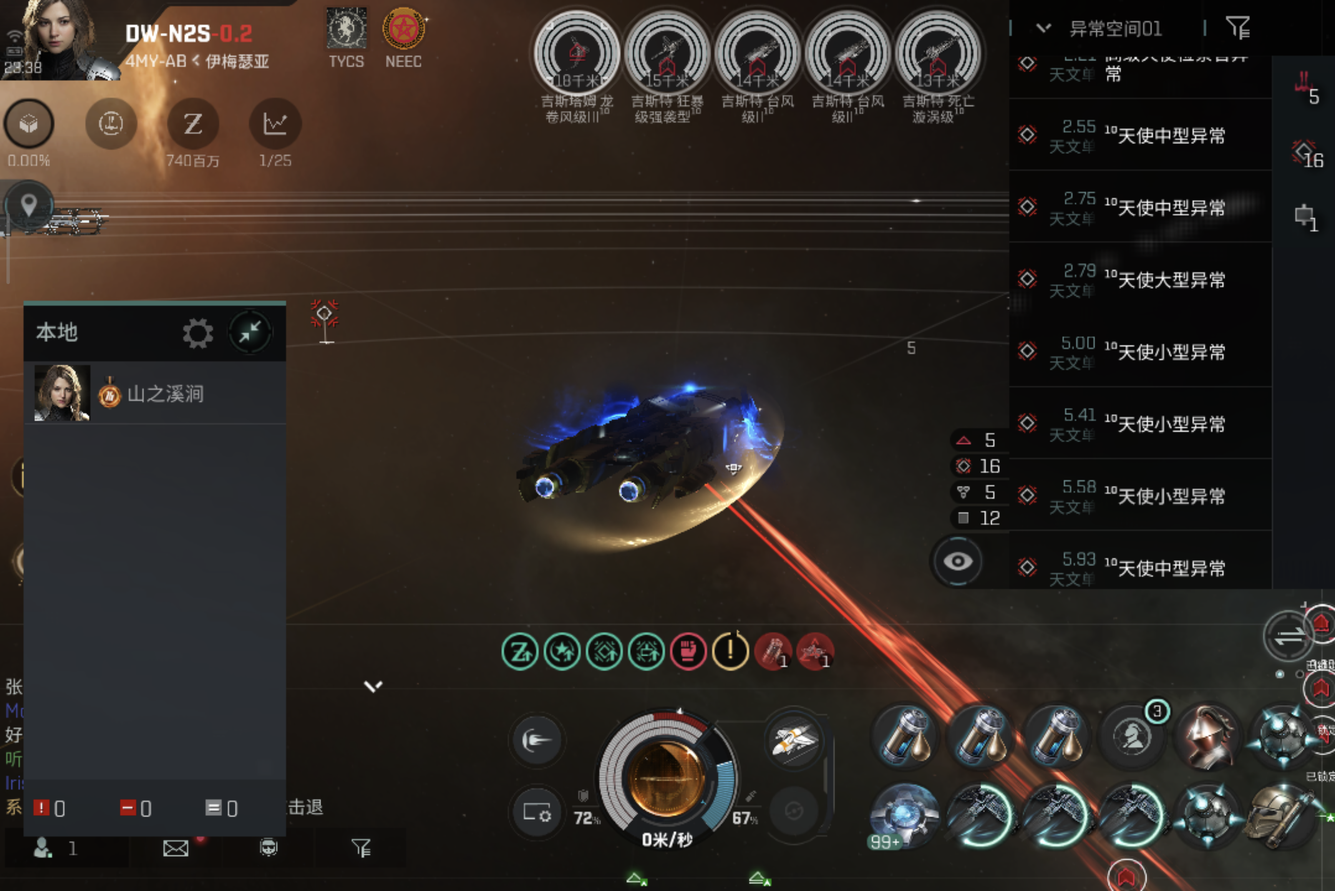enemy_monster: (832, 35, 869, 81), (740, 38, 778, 77), (648, 35, 685, 75), (560, 36, 596, 77), (924, 40, 954, 79)
